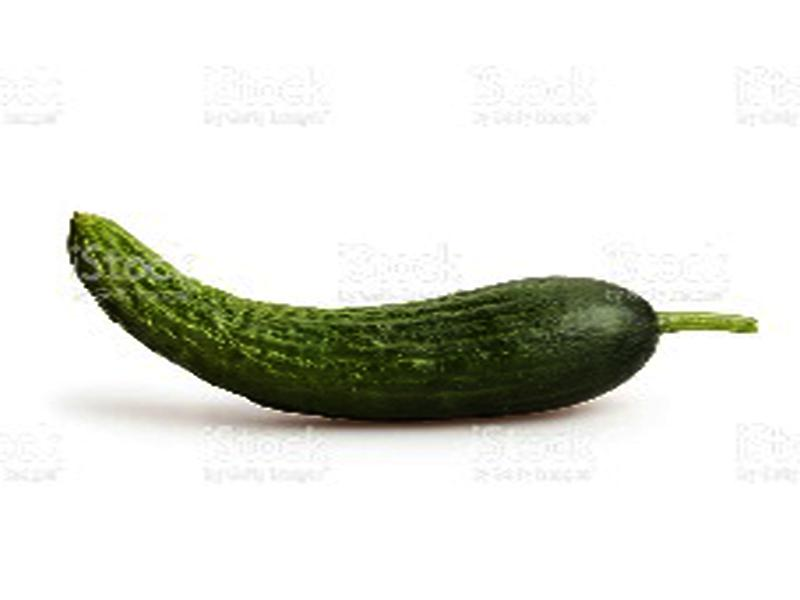Cucumber: (67, 214, 758, 420)
